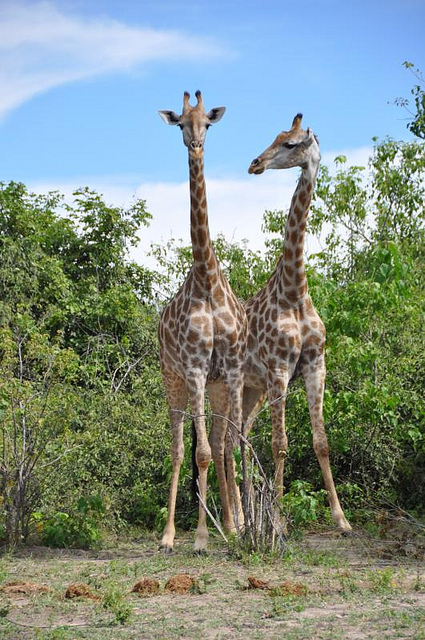giraffe: (241, 114, 366, 522), (154, 85, 260, 531)
